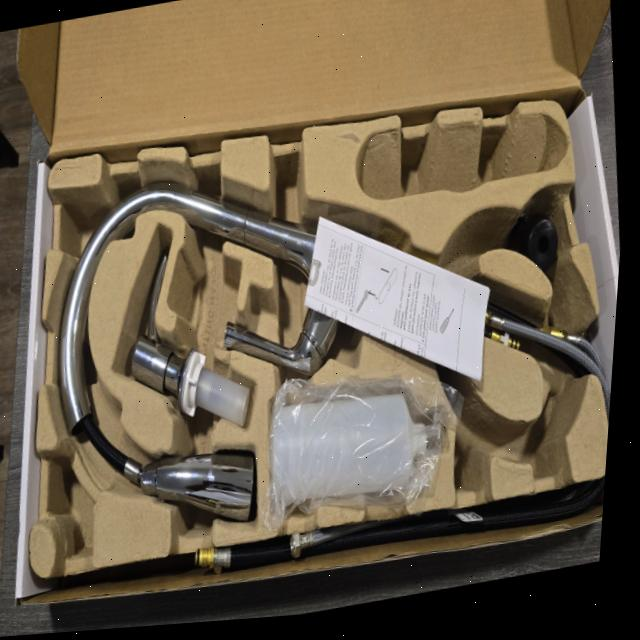1o: (58, 179, 602, 520)
2: (127, 250, 249, 427)
3: (268, 391, 443, 510)
4m: (355, 113, 568, 199)
5: (507, 211, 557, 269)
6m: (511, 388, 572, 480)
7m: (443, 363, 506, 493)
8: (300, 215, 489, 380)
